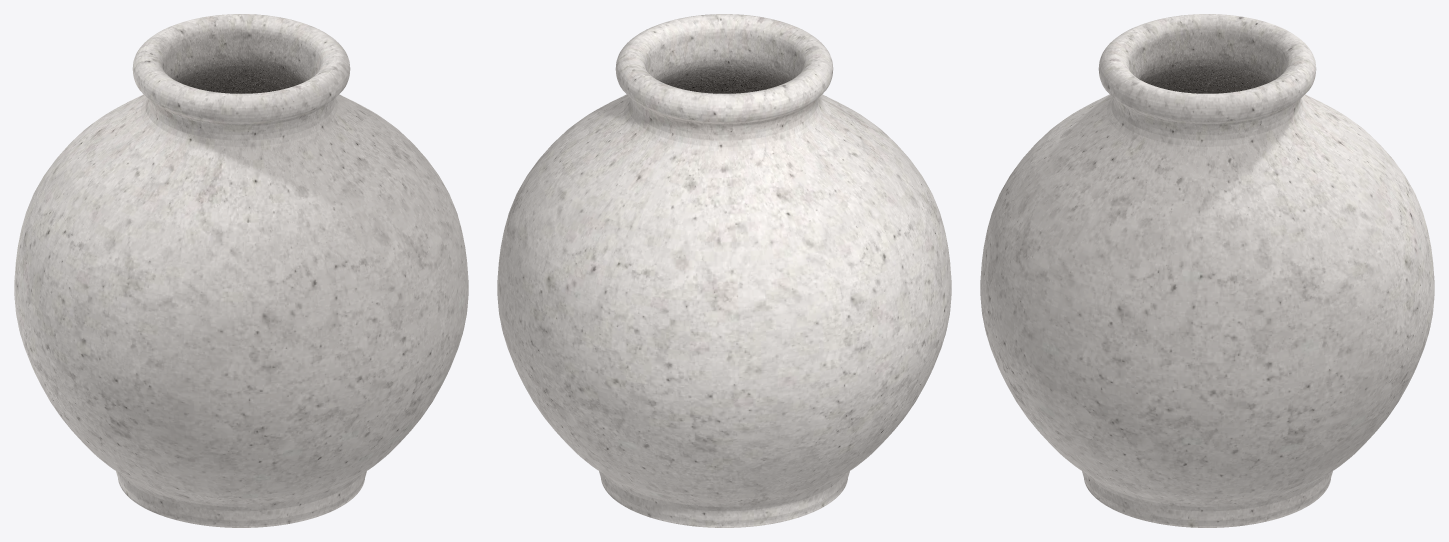
The model's file is vase-large-white.glb.
3 views of the same model, side by side, from view 1: azimuth 30°, elevation 25°; view 2: azimuth 150°, elevation 25°; view 3: azimuth 270°, elevation 25° (orthographic).
Parts seen in each view (by area): view 1: vase-large-white; view 2: vase-large-white; view 3: vase-large-white.
Part boxes in pixels (x1,y1,x2,y2): vase-large-white: (14, 14, 468, 527); vase-large-white: (497, 14, 951, 527); vase-large-white: (980, 14, 1434, 527).
Bounding box in the file's own units: 0.0321 × 0.033 × 0.0321.
1 material, 1 textured.
